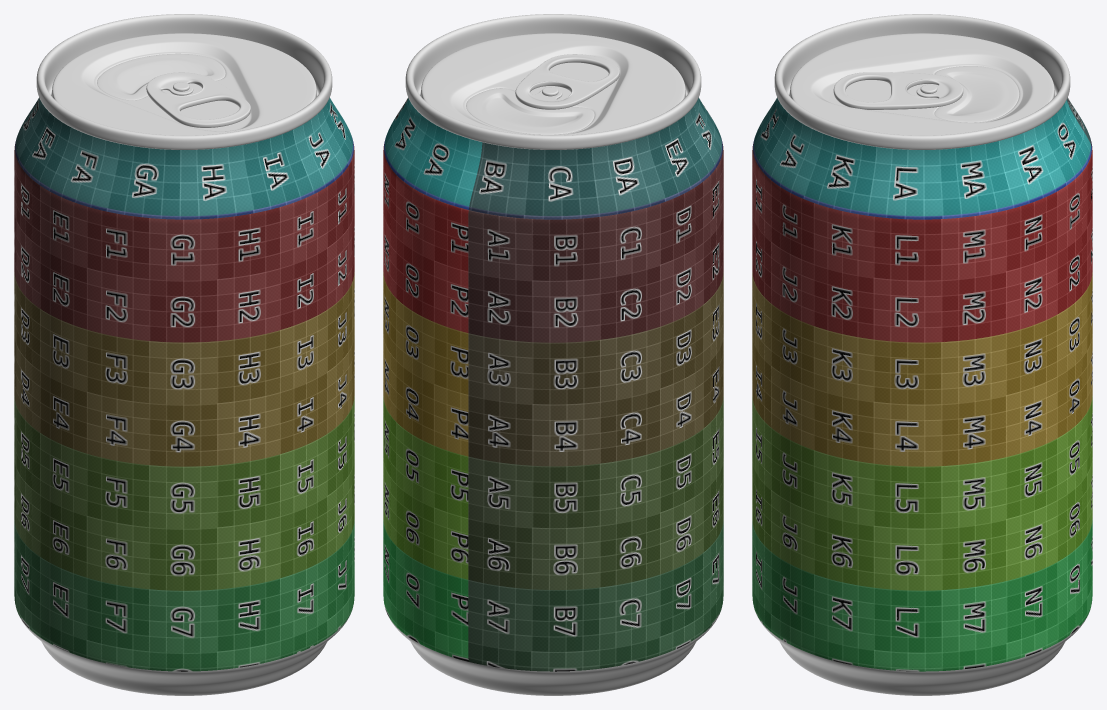
Rendered from SDFDSAFDSD.glb.
3 renders of one model, left to right at view 1: azimuth 30°, elevation 25°; view 2: azimuth 150°, elevation 25°; view 3: azimuth 270°, elevation 25°, orthographic.
Visible parts, largest first — view 1: LATA; view 2: LATA; view 3: LATA.
Part boxes in pixels (<box>): LATA: <box>14,14,354,695</box>; LATA: <box>383,14,723,695</box>; LATA: <box>752,14,1092,695</box>.
Bounding box in the file's own units: 0.9532 × 1.74 × 0.9532.
2 materials, 1 textured.
